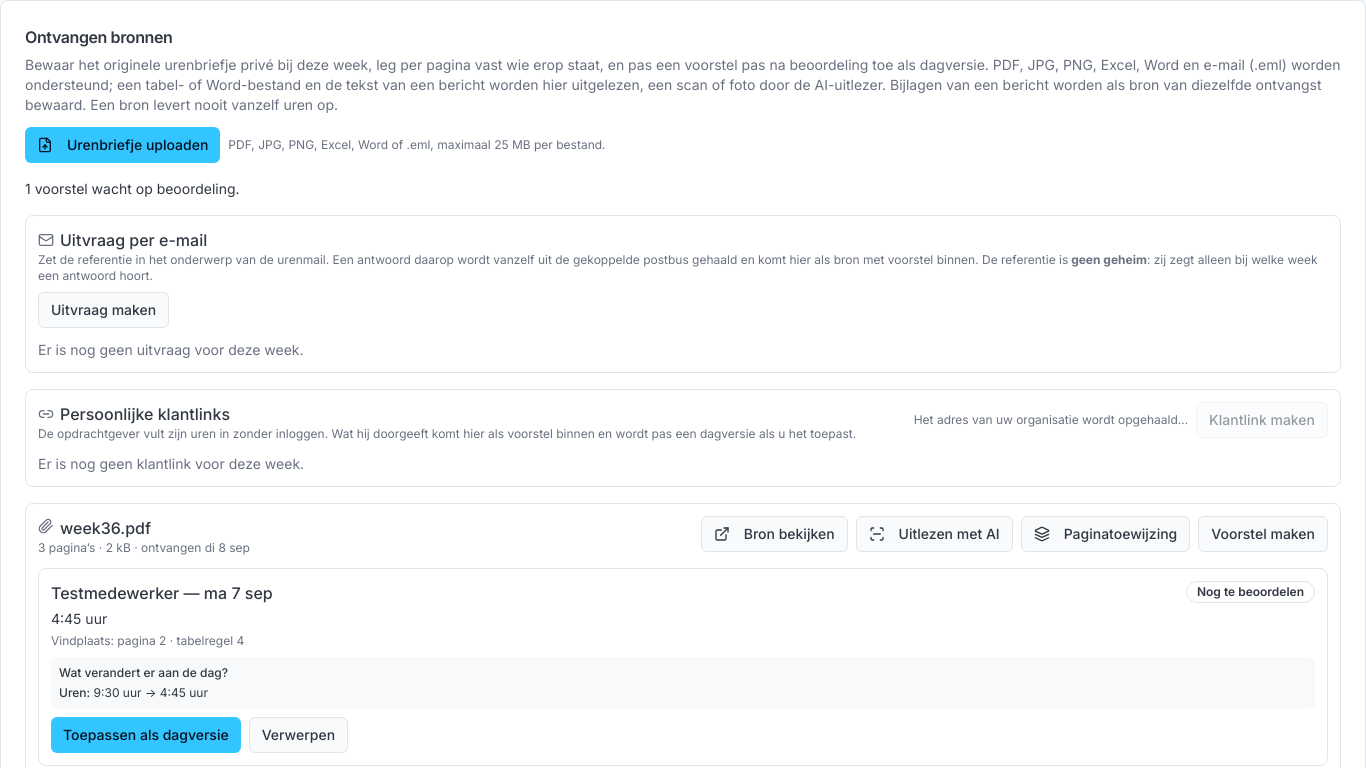
Test: internal hours intake › shows what applying changes and only then writes a new day version
Check: the list item reads "Uren: 9:30 uur → 4:45 uur", box [59,685,208,700]
Click the button "Toepassen als dagversie" at point(146, 735), box [51,717,241,753]
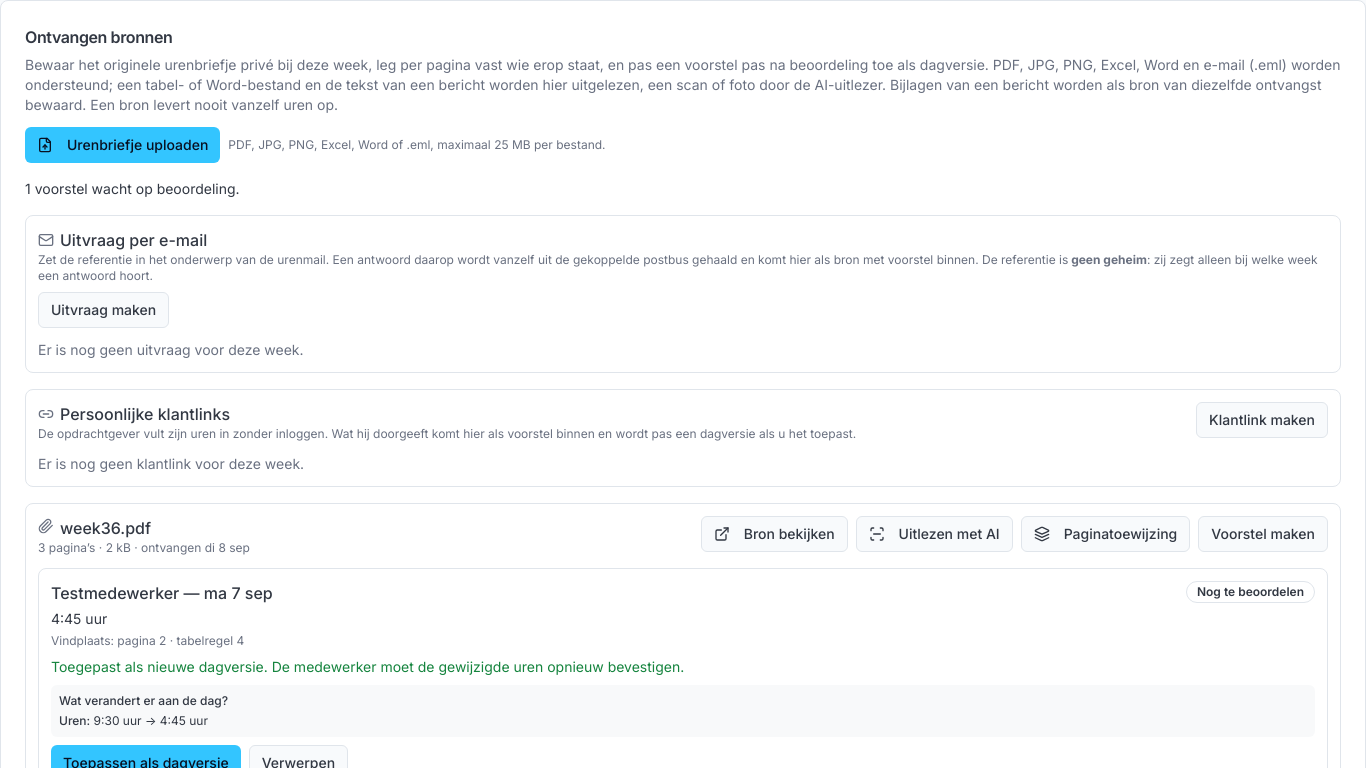
Check: the message shows "Toegepast als nieuwe dagversie", box [51,658,684,675]
